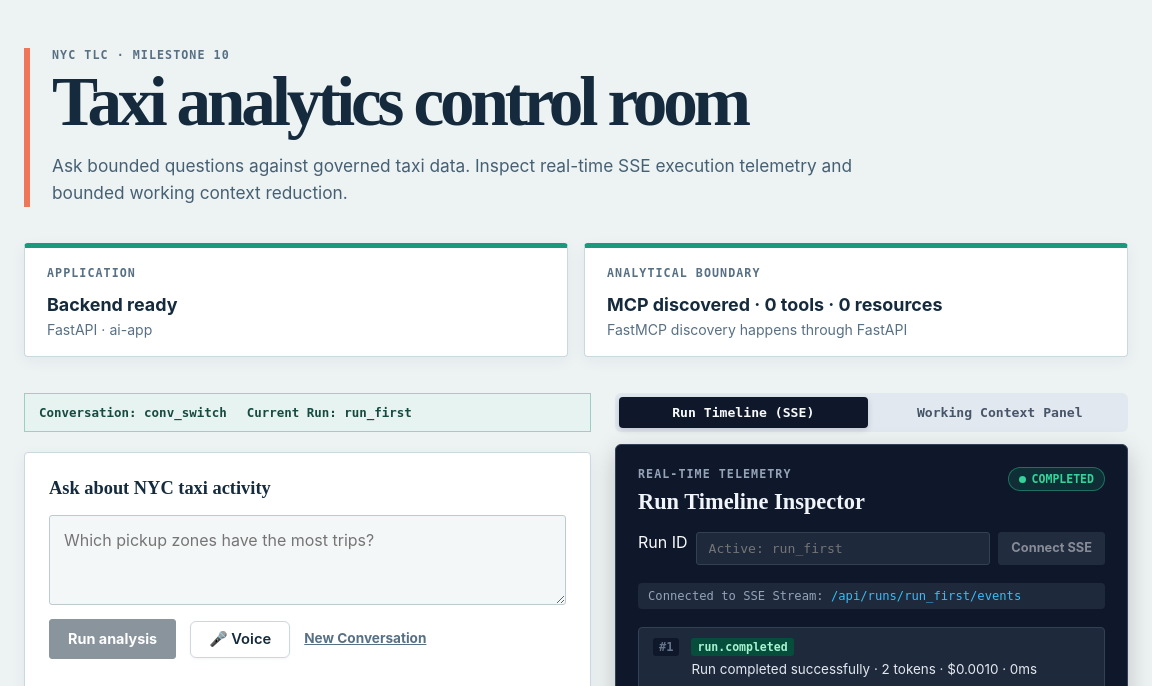
Test: App › clears prior run context and telemetry before inspecting another run
Type "run_second" into the field labelled "Run ID".
click(843, 549); type("run_second")  # box [696, 532, 990, 565]
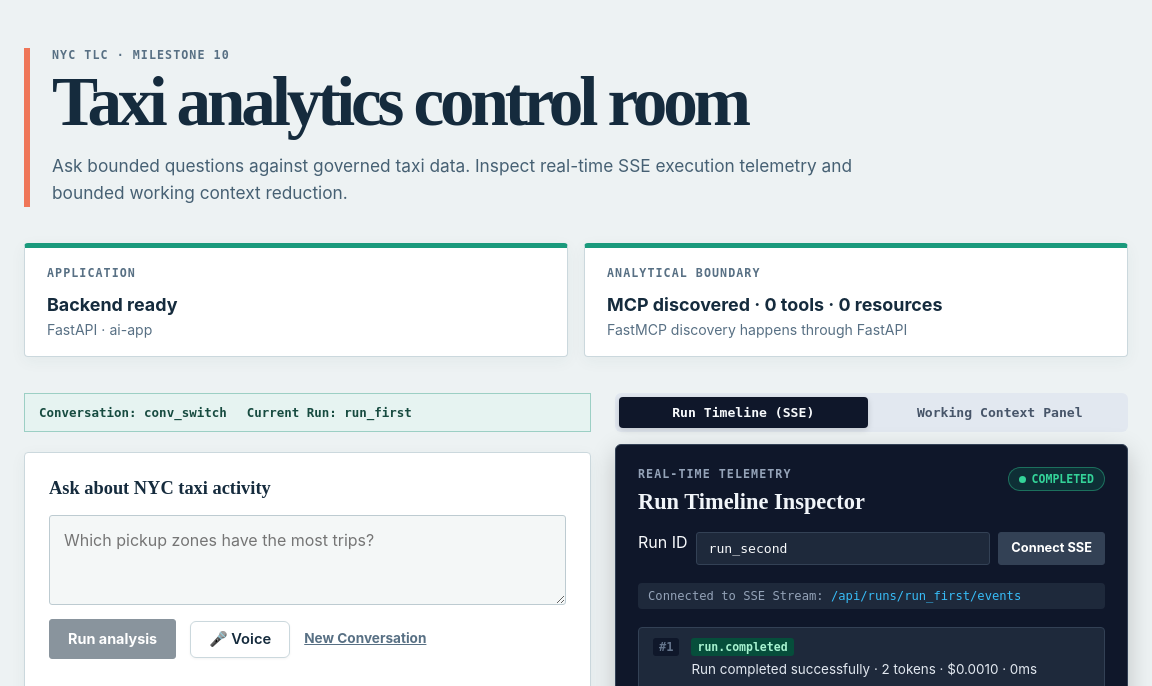
Click the button "Connect SSE".
click(1052, 549)  # box [998, 532, 1105, 565]
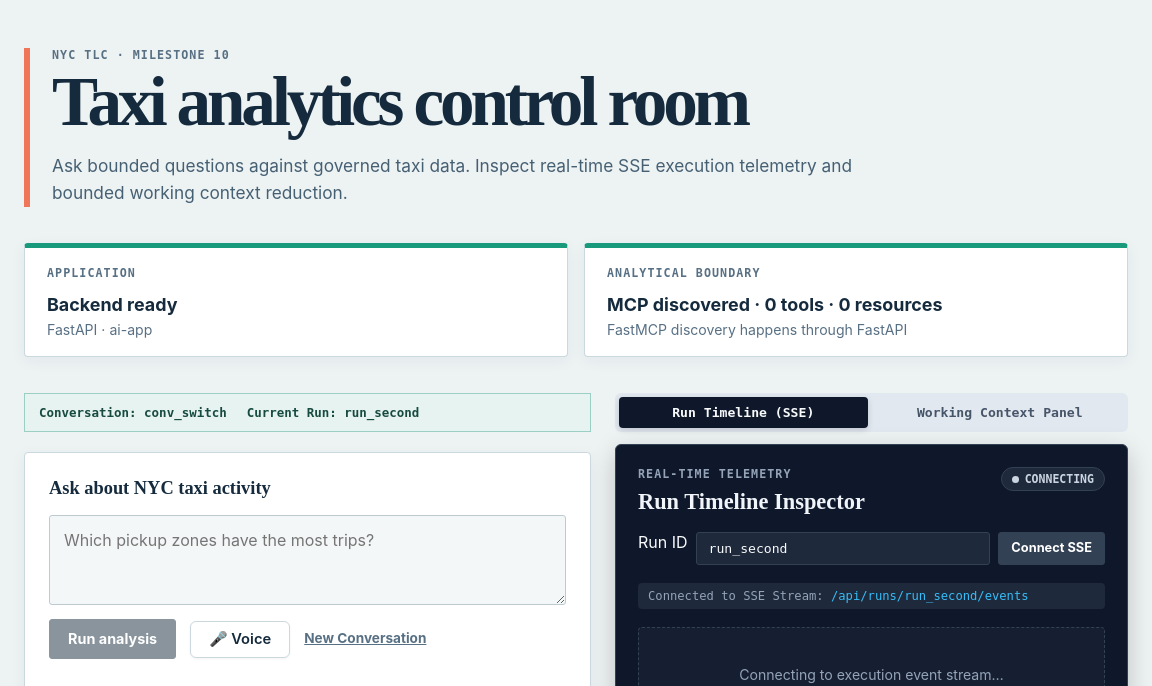
Click the tab "Working Context Panel".
click(1000, 412)  # box [876, 397, 1124, 428]
(page scrolled)
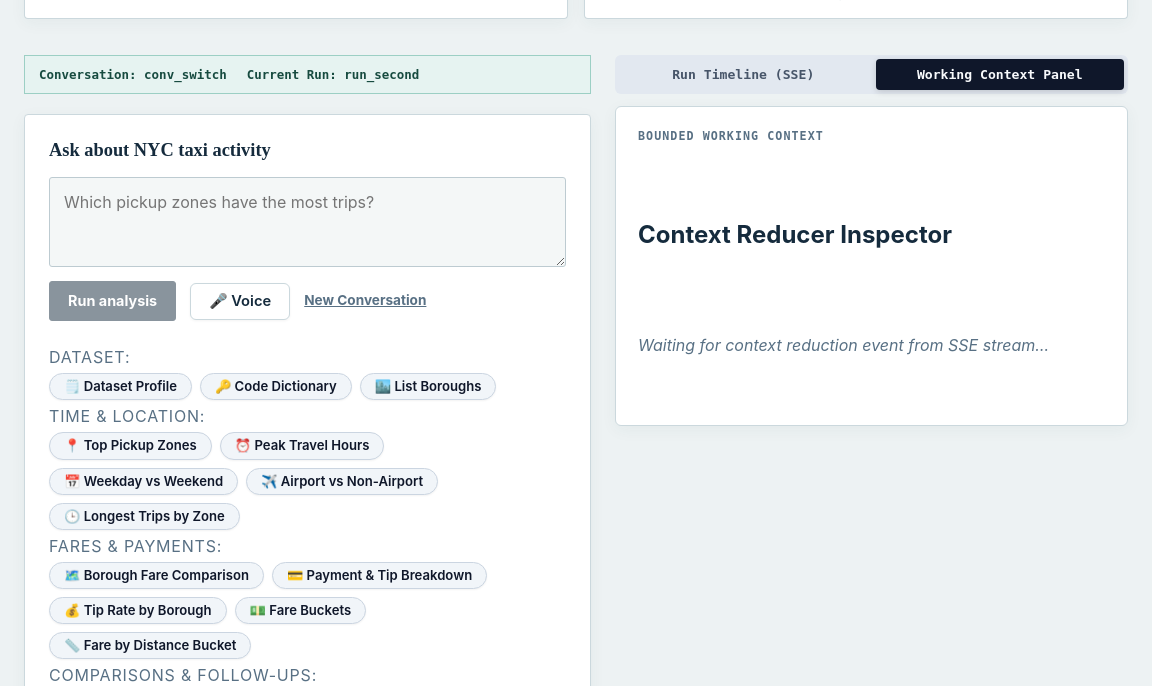
Result: the text "Waiting for context reduction event from SSE stream…" is shown at [638, 335, 1049, 355]
